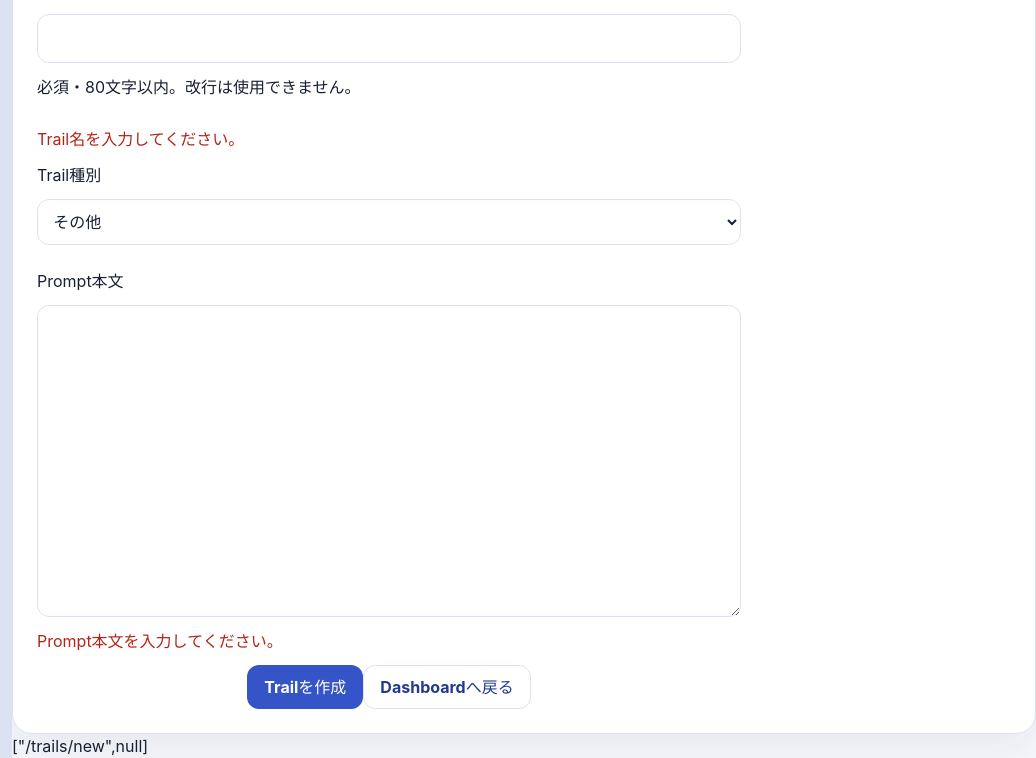
Test: NewTrailPage › navigates to the created Run Detail path after a successful save
(page scrolled)
Type "create me" into the text box labelled "Prompt本文" at (389, 461), box [37,305,741,618]
(page scrolled)
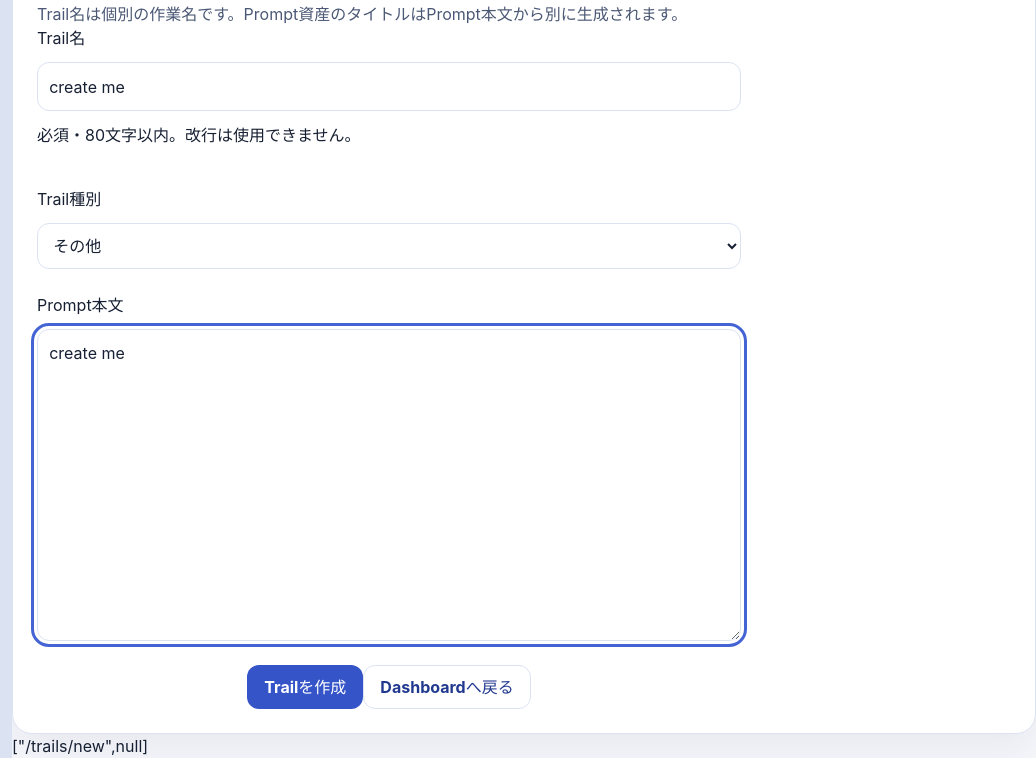
Click the button "Trailを作成" at (305, 687), box [247,665,363,709]
(page scrolled)
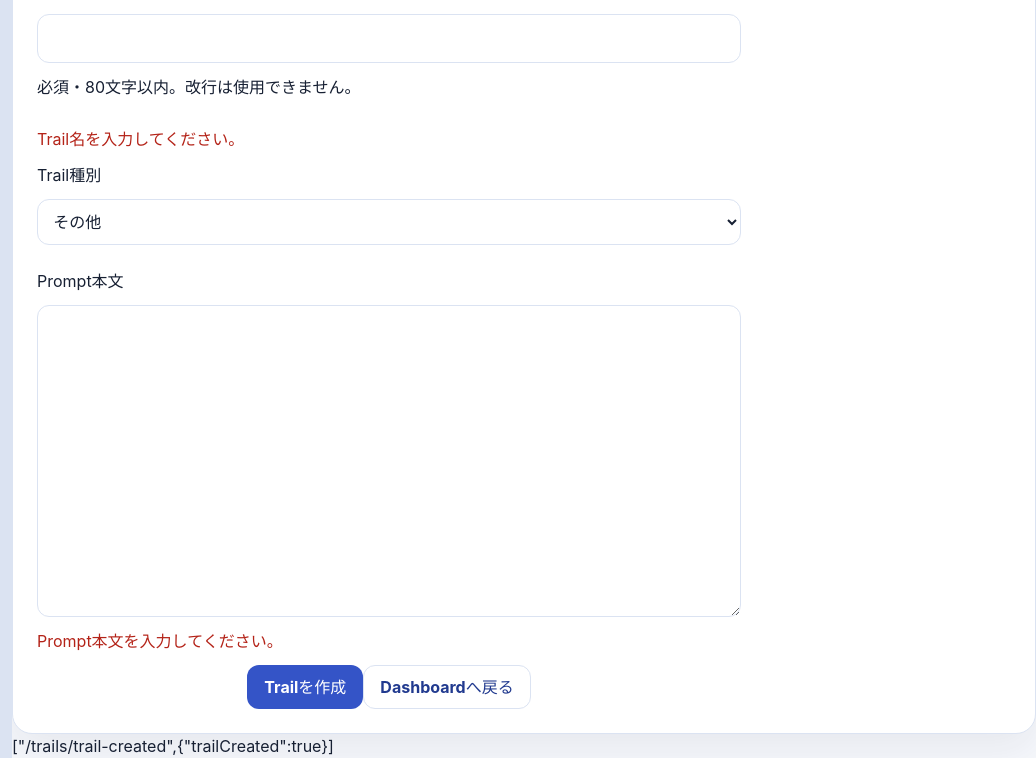
Expected: the text "[\"/trails/trail-created\",{\"trailCreated\":true}]" is shown, [12,736,334,756]
